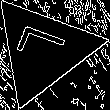L_E: (12, 26, 74, 74)
